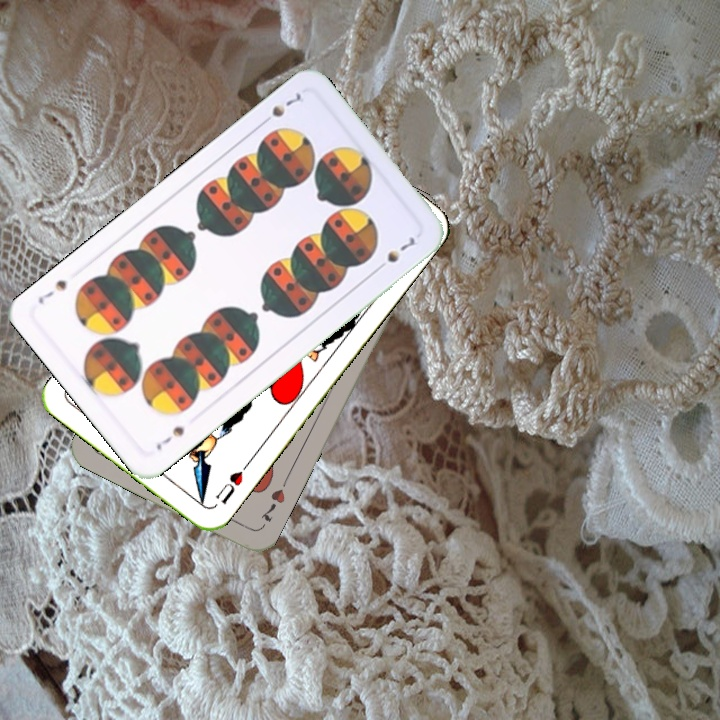H7: (256, 484, 288, 525)
HU: (211, 458, 252, 507)
S7: (256, 89, 304, 128), (152, 421, 187, 453)
